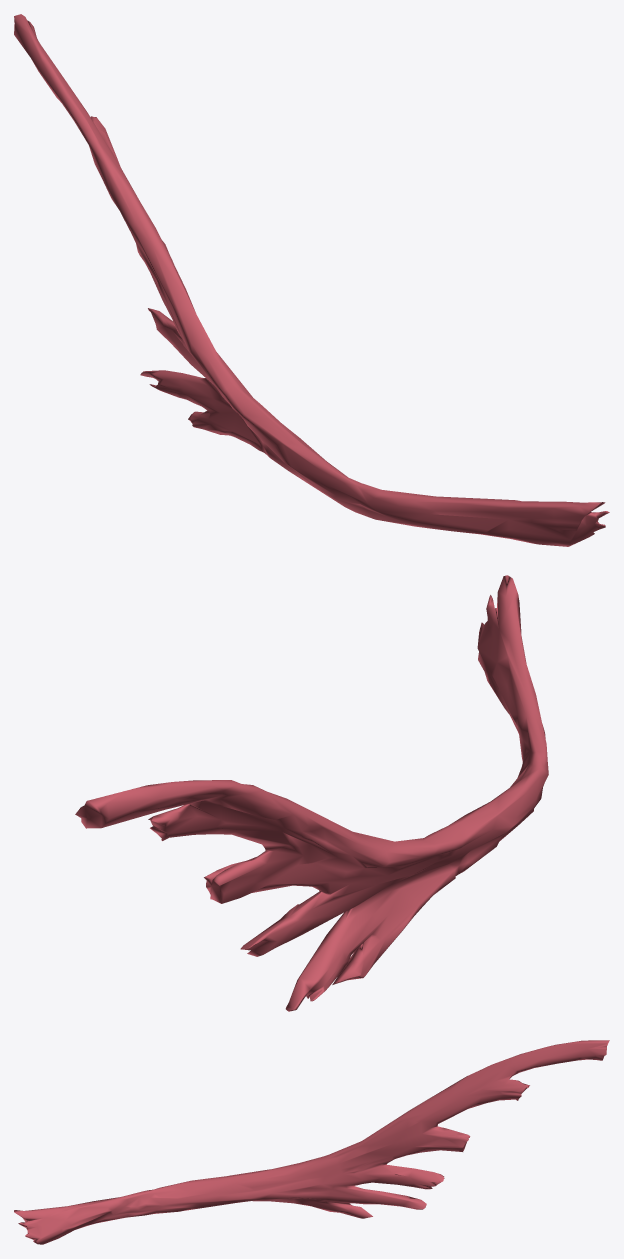
3 renders of one model, top to bottom at view 1: azimuth 30°, elevation 25°; view 2: azimuth 150°, elevation 25°; view 3: azimuth 270°, elevation 25°, orthographic. The views are drawn at different scales.
Parts seen in each view (by area): view 1: 左侧头最长肌; view 2: 左侧头最长肌; view 3: 左侧头最长肌.
Part boxes in pixels (x1,y1,x2,y2): 左侧头最长肌: (14, 14, 609, 546); 左侧头最长肌: (75, 575, 548, 1011); 左侧头最长肌: (14, 1040, 609, 1244).
Bounding box in the file's own units: 0.0519 × 0.0769 × 0.2316.
